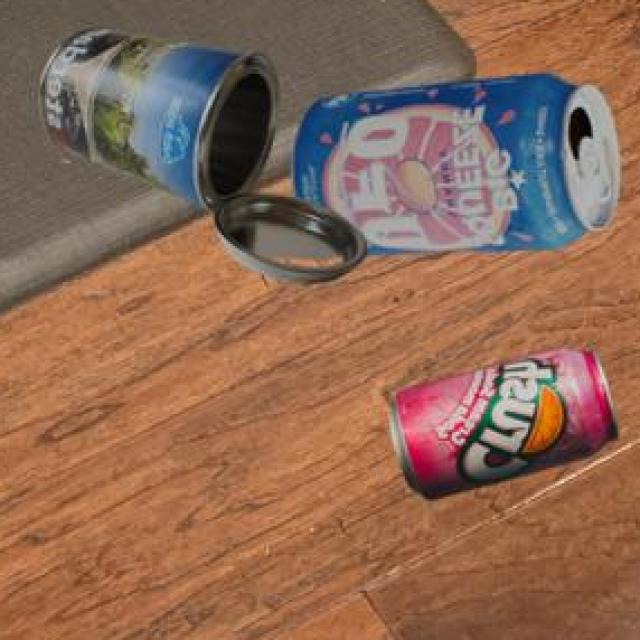logam: (44, 26, 370, 279), (294, 70, 623, 252), (393, 343, 621, 496)
